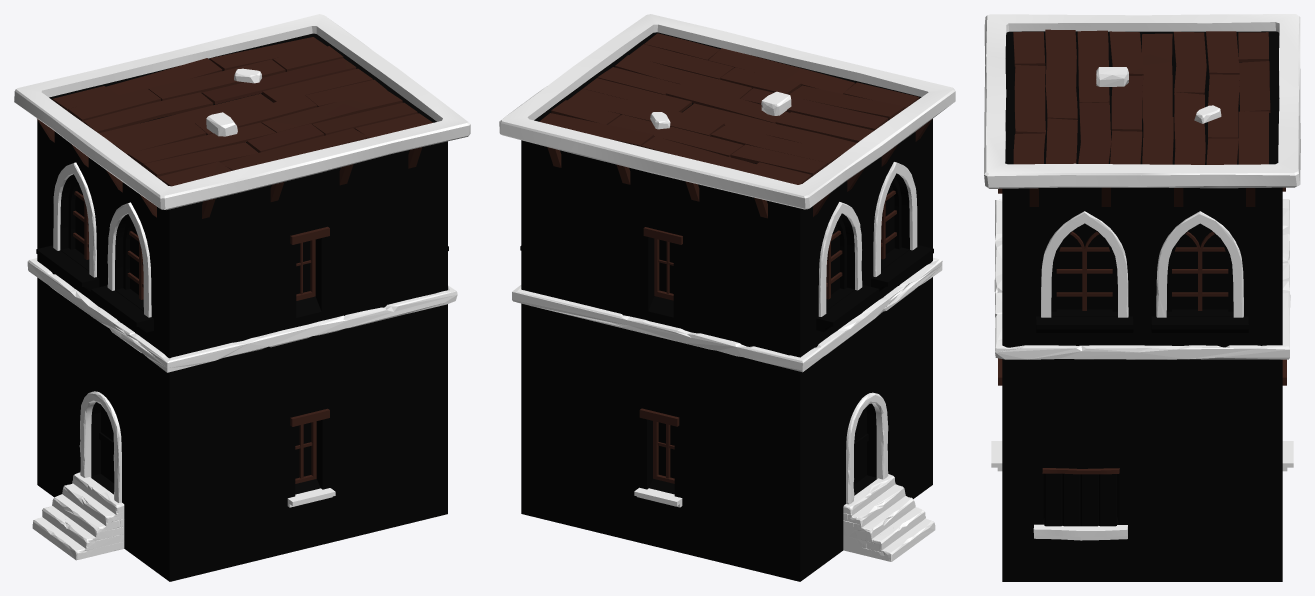
Rendered from civilian_house_01.FBX.
The picture shows the model from 3 angles, left to right: view 1: azimuth 30°, elevation 25°; view 2: azimuth 150°, elevation 25°; view 3: azimuth 270°, elevation 25°; orthographic projection. The views are drawn at different scales.
Visible parts, largest first — view 1: civilian_house_01; view 2: civilian_house_01; view 3: civilian_house_01.
Boxes of the visible parts, left/top/right/bottom form: civilian_house_01: left=14, top=14, right=470, bottom=581; civilian_house_01: left=499, top=14, right=955, bottom=581; civilian_house_01: left=984, top=14, right=1300, bottom=581.
Size of the model in its own units: 987 by 1096 by 747.
